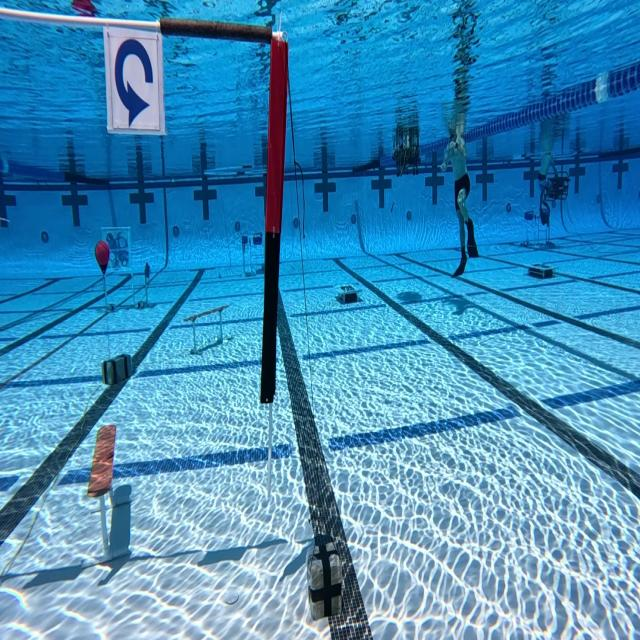blue_side: (98, 15, 169, 148)
